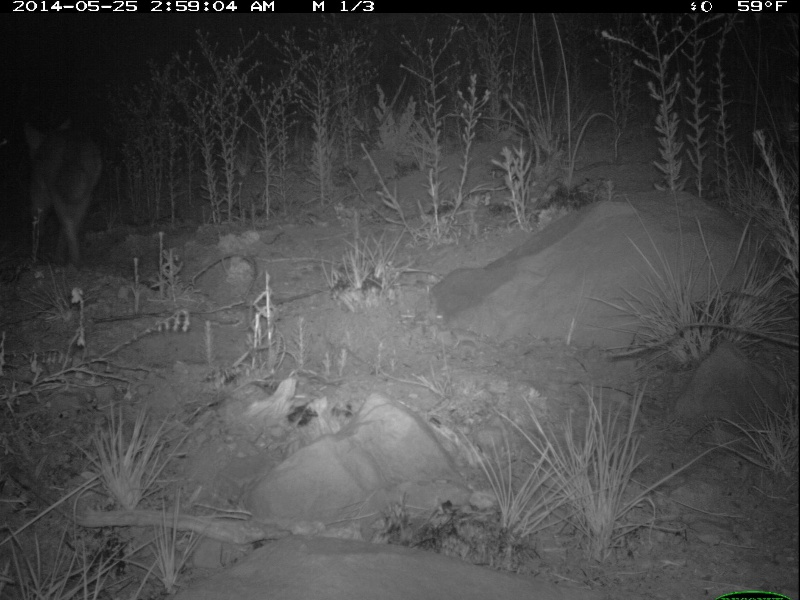coyote: (13, 108, 109, 271)
